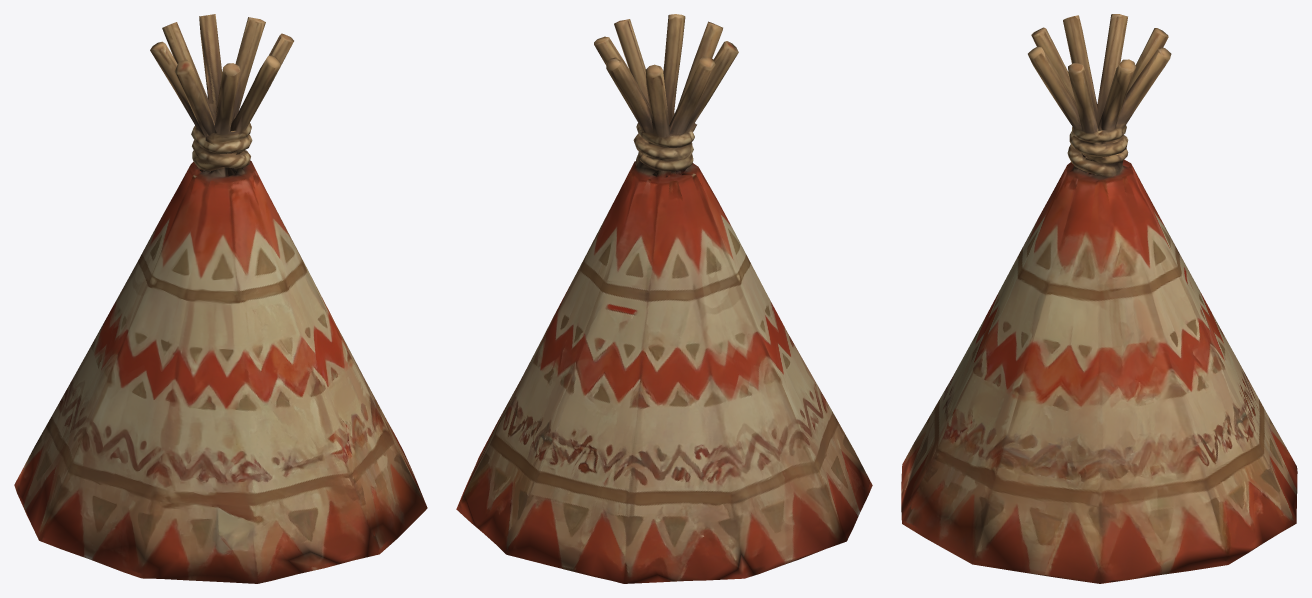
The model's file is Teepee.fbx.
The picture shows the model from 3 angles, left to right: view 1: azimuth 30°, elevation 25°; view 2: azimuth 150°, elevation 25°; view 3: azimuth 270°, elevation 25°; orthographic projection.
Parts seen in each view (by area): view 1: mesh_node; view 2: mesh_node; view 3: mesh_node.
Part boxes in pixels (x1,y1,x2,y2): mesh_node: (14, 14, 427, 583); mesh_node: (456, 14, 872, 583); mesh_node: (901, 14, 1297, 583).
Size of the model in its own units: 1.65 by 1.98 by 1.55.
